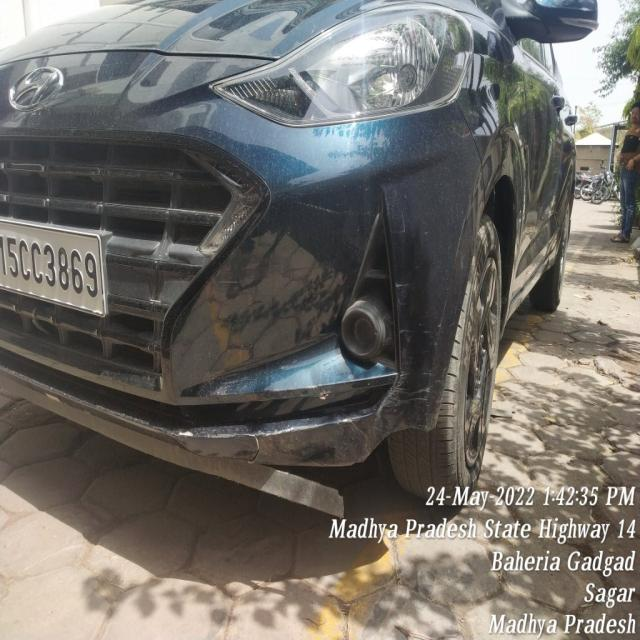damage: (393, 265, 440, 437), (249, 442, 346, 513), (317, 379, 338, 405)
